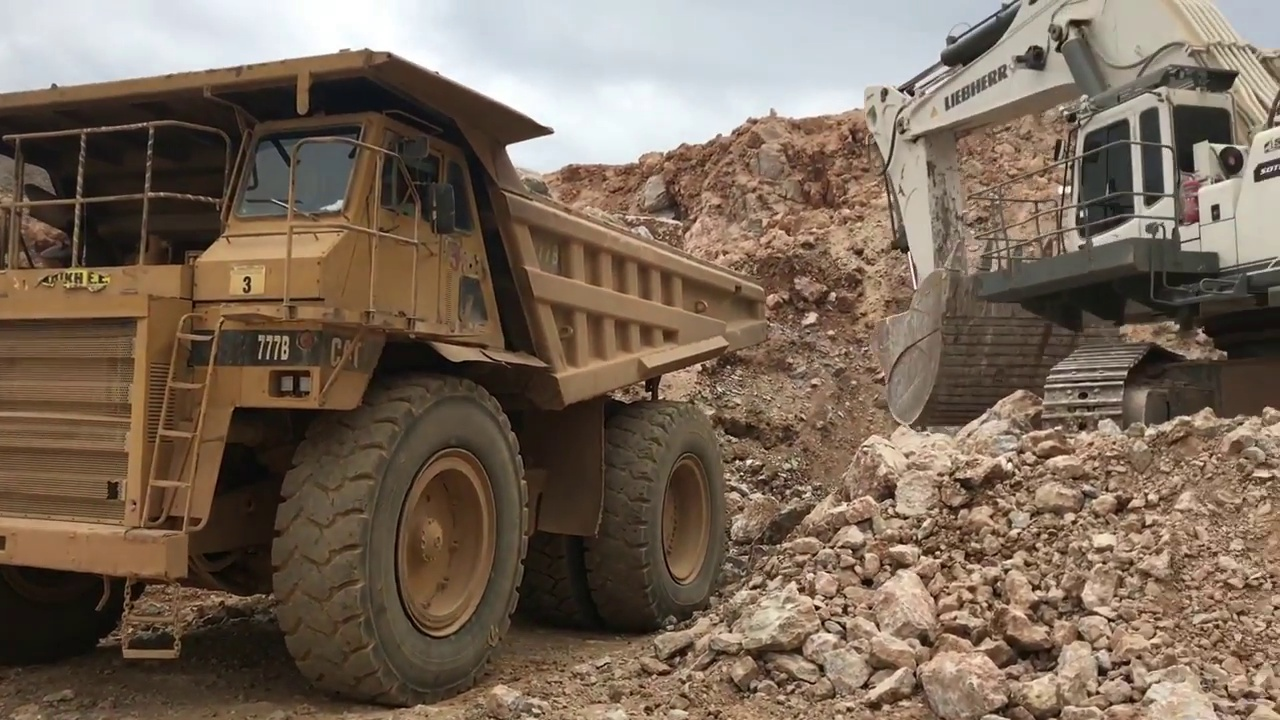dumper: (1, 48, 771, 704)
excavator: (864, 4, 1280, 428)
